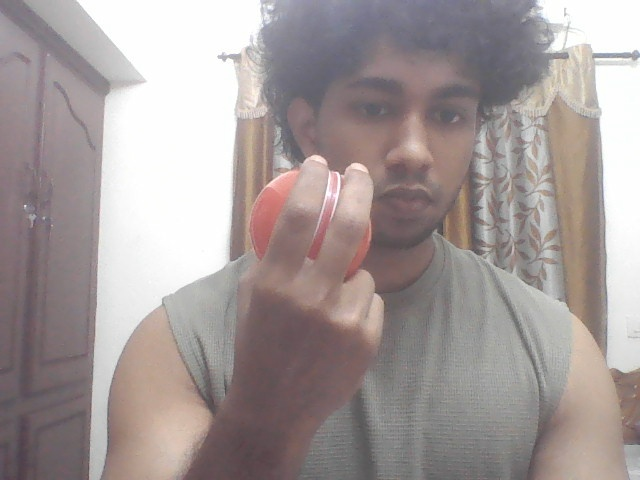cricket_ball: (245, 158, 383, 278)
